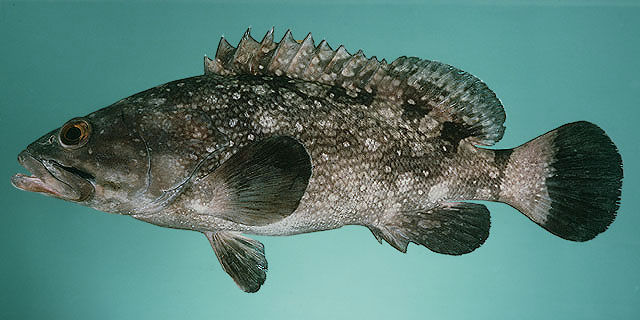fish: (10, 24, 624, 294)
